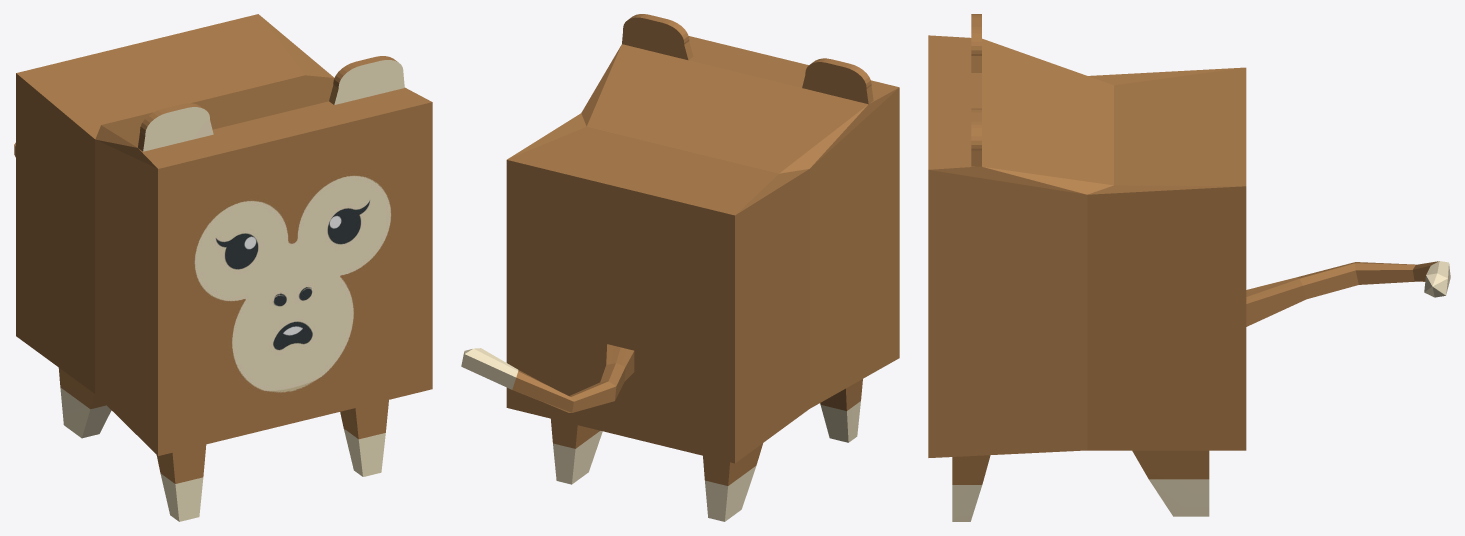
File: макак.fbx
3 renders of one model, left to right at view 1: azimuth 30°, elevation 25°; view 2: azimuth 150°, elevation 25°; view 3: azimuth 270°, elevation 25°, orthographic. The views are drawn at different scales.
Visible parts, largest first — view 1: бибизьян; view 2: бибизьян; view 3: бибизьян.
Boxes of the visible parts, bbox=[...] form: бибизьян: bbox=[14, 14, 432, 521]; бибизьян: bbox=[461, 14, 899, 521]; бибизьян: bbox=[928, 14, 1450, 521].
Bounding box in the file's own units: 27.66 × 38.81 × 45.42.
